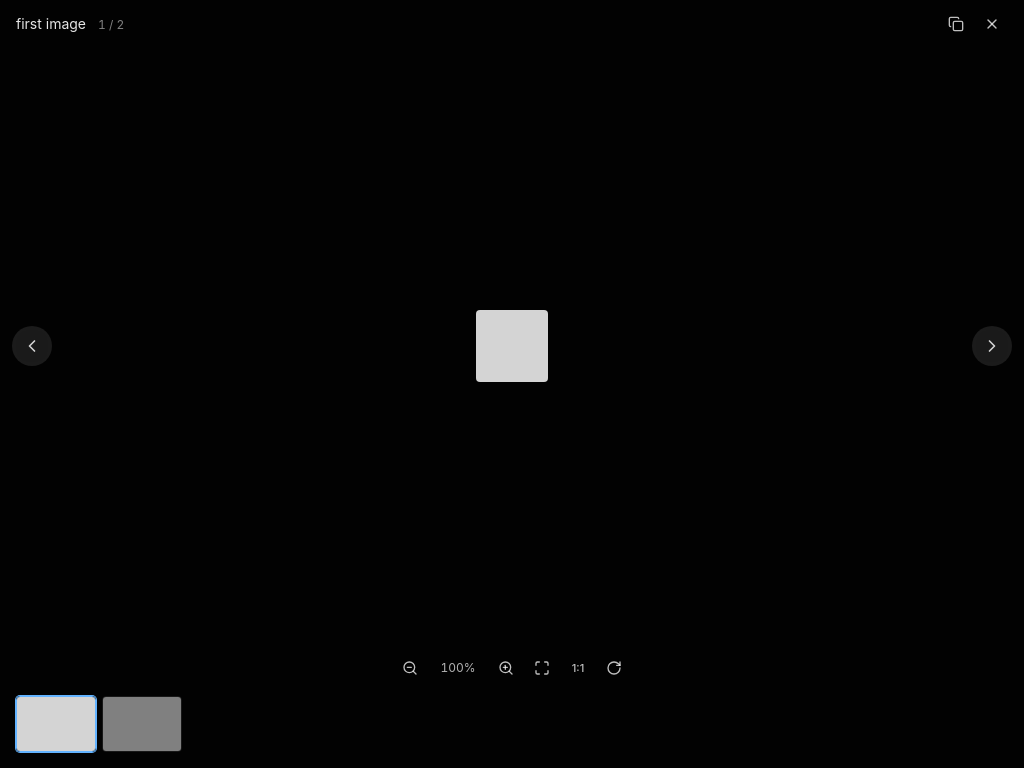
ImageViewer › zoom controls update the percentage readout
The image size is (1024, 768).
Expected: the text "100%" is shown, x1=440 y1=660 x2=476 y2=675
Click the button named "Zoom in (+)" at (506, 668), box x1=490 y1=652 x2=522 y2=684
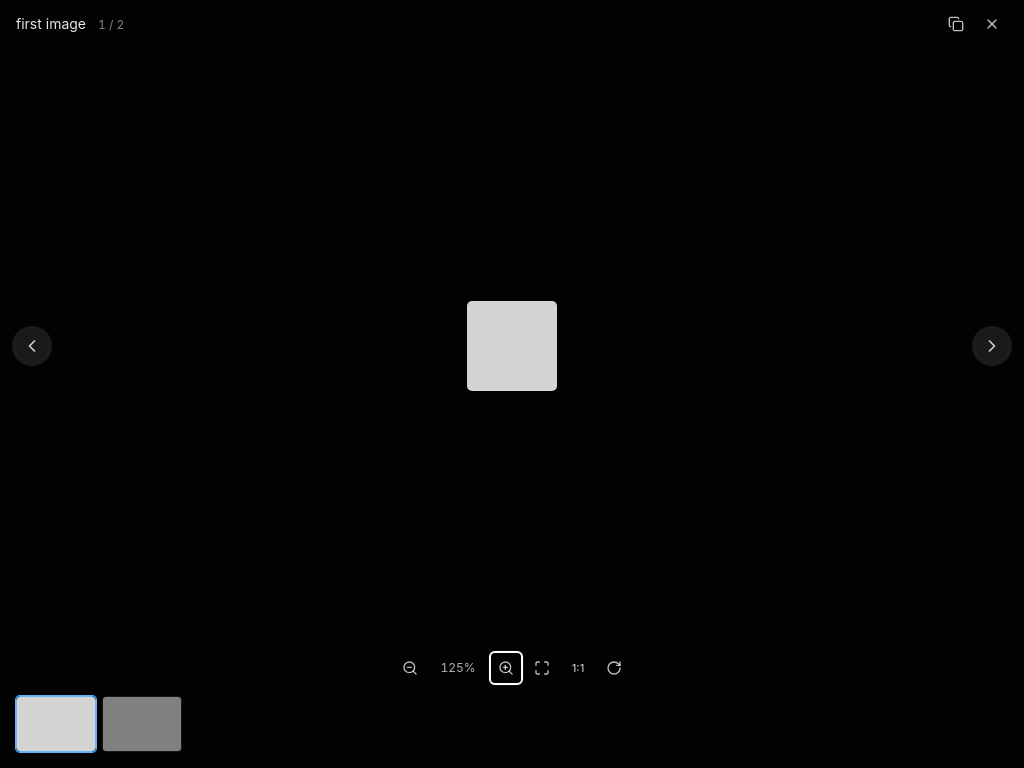
Expected: the text "125%" is shown, x1=440 y1=660 x2=476 y2=675
Click the button named "Zoom out (-)" at (410, 668), box x1=394 y1=652 x2=426 y2=684
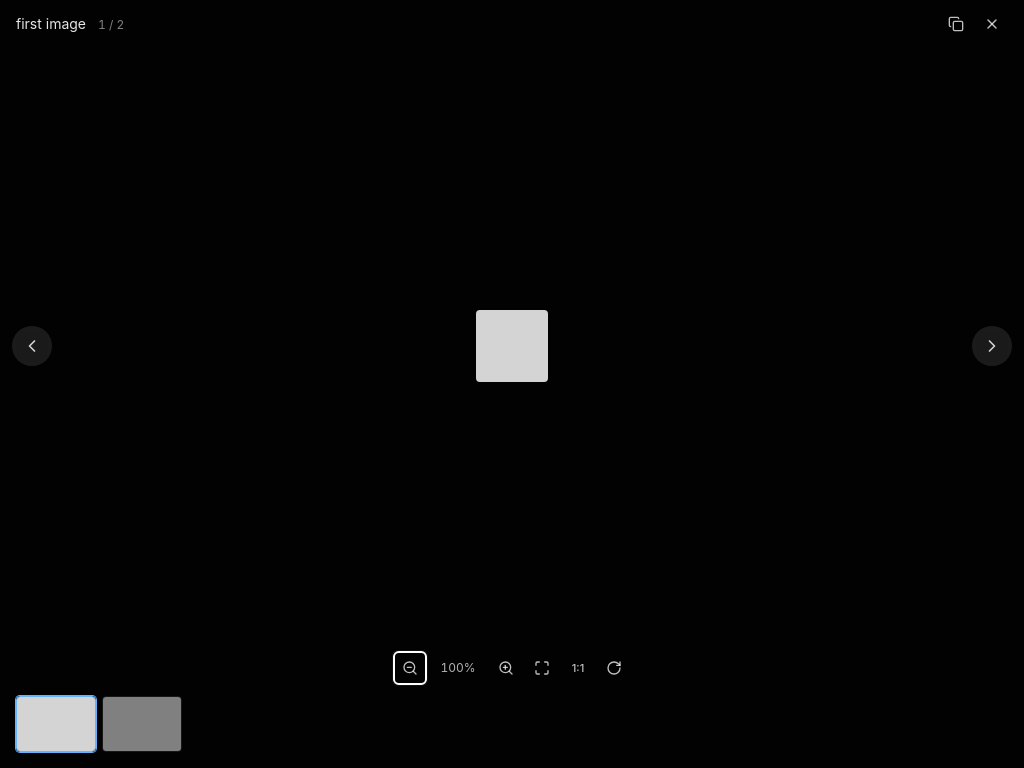
Expected: the text "100%" is shown, x1=440 y1=660 x2=476 y2=675
